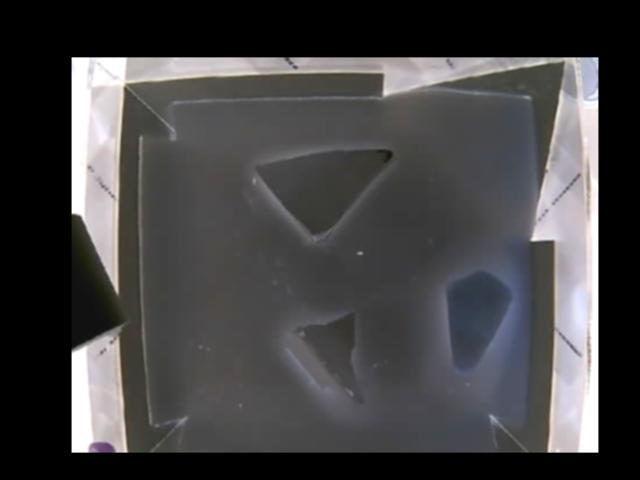China: (249, 150, 396, 240), (286, 314, 368, 403)
Mooli: (446, 267, 510, 373)
